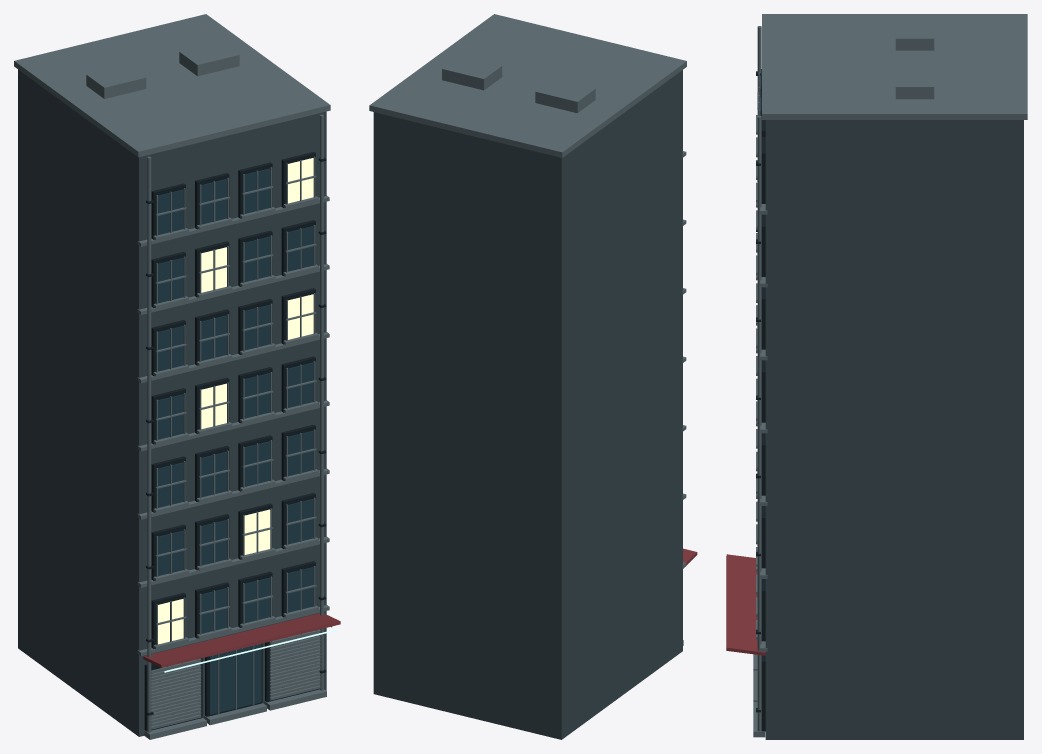
The model's file is alley_facade_distant.glb.
The picture shows the model from 3 angles, left to right: view 1: azimuth 30°, elevation 25°; view 2: azimuth 150°, elevation 25°; view 3: azimuth 270°, elevation 25°; orthographic projection. The views are drawn at different scales.
Visible parts, largest first — view 1: Detail.alley_facade_distant.Concrete, Detail.alley_facade_distant.Metal, Detail.alley_facade_distant.Glass, Detail.alley_facade_distant.Dark, Detail.alley_facade_distant.Light, Detail.alley_facade_distant.Red; view 2: Detail.alley_facade_distant.Concrete, Detail.alley_facade_distant.Metal; view 3: Detail.alley_facade_distant.Concrete, Detail.alley_facade_distant.Metal, Detail.alley_facade_distant.Red, Detail.alley_facade_distant.Dark.
Boxes of the visible parts, x1,y1,x2,y2 form: Detail.alley_facade_distant.Concrete: (18,69,326,736); Detail.alley_facade_distant.Metal: (14,14,332,739); Detail.alley_facade_distant.Glass: (158,168,313,714); Detail.alley_facade_distant.Dark: (144,152,326,731); Detail.alley_facade_distant.Light: (158,158,313,644); Detail.alley_facade_distant.Red: (143,613,340,667); Detail.alley_facade_distant.Concrete: (373,70,682,739); Detail.alley_facade_distant.Metal: (369,14,686,645); Detail.alley_facade_distant.Concrete: (765,120,1023,739); Detail.alley_facade_distant.Metal: (753,14,1027,737); Detail.alley_facade_distant.Red: (726,554,765,655); Detail.alley_facade_distant.Dark: (756,69,765,731).
Bounding box in the file's own units: 8.25 × 24.56 × 10.5.
